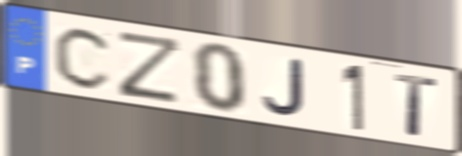0: (185, 39, 251, 114)
1: (341, 63, 366, 134)
C: (52, 24, 116, 92)
J: (259, 57, 307, 118)
T: (392, 70, 441, 140)
Z: (115, 28, 185, 106)
